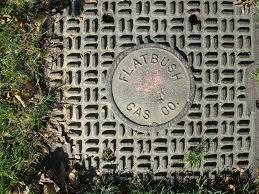closed manhole-not overflowing-: (111, 46, 191, 126)
